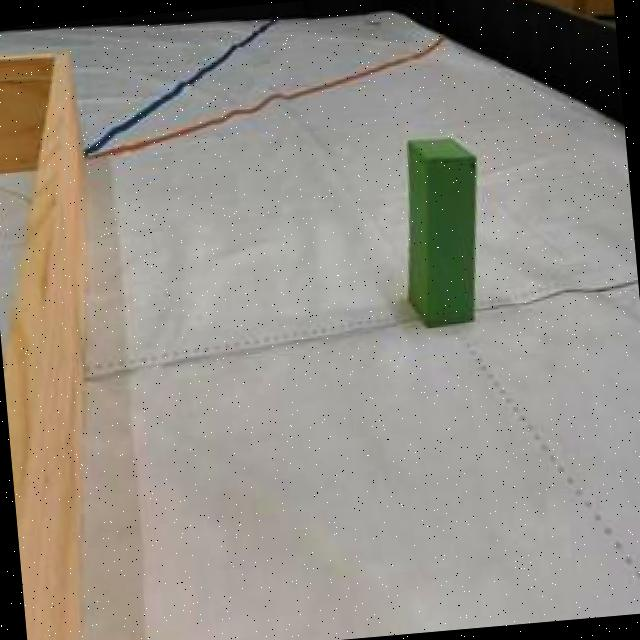greenbox: (398, 136, 488, 330)
